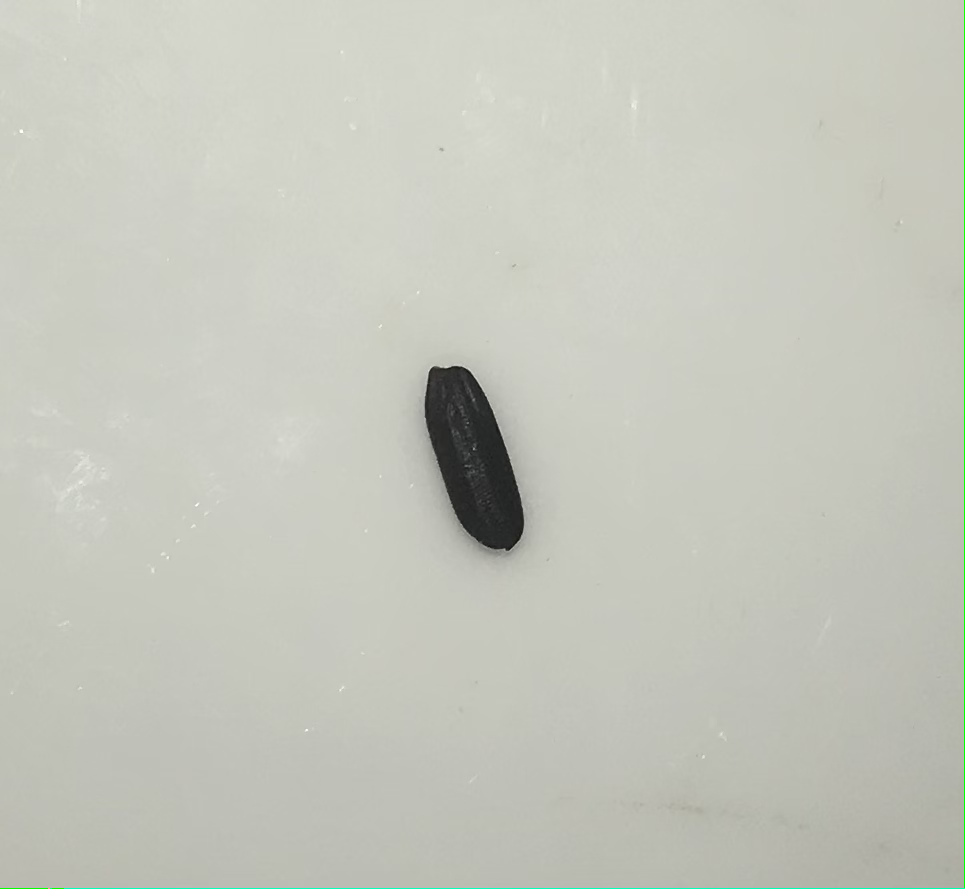Gao Nep Cam: (380, 346, 550, 555)
